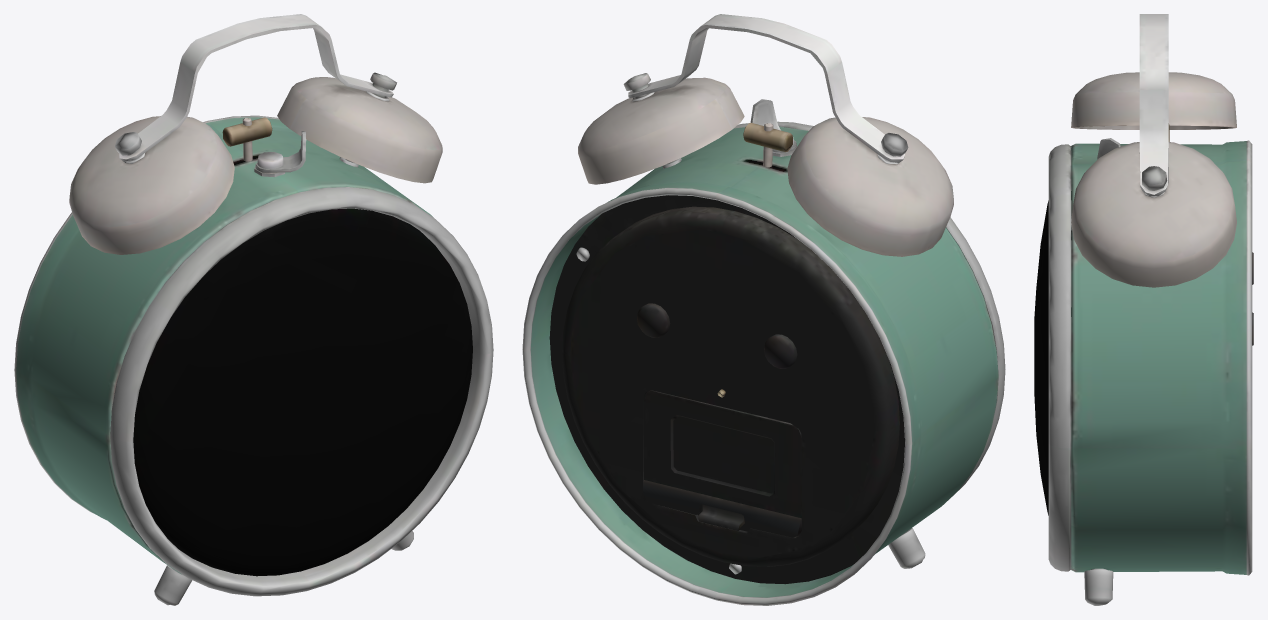
The model's file is alarm_clock_01.glb.
3 views of the same model, side by side, from view 1: azimuth 30°, elevation 25°; view 2: azimuth 150°, elevation 25°; view 3: azimuth 270°, elevation 25° (orthographic). The views are drawn at different scales.
Visible parts, largest first — view 1: alarm_clock_01; view 2: alarm_clock_01; view 3: alarm_clock_01.
Part boxes in pixels (x1,y1,x2,y2): alarm_clock_01: (14,14,493,605); alarm_clock_01: (522,14,1005,605); alarm_clock_01: (1034,14,1253,605).
Bounding box in the file's own units: 0.1316 × 0.1741 × 0.0662.
2 materials, 2 textured.
